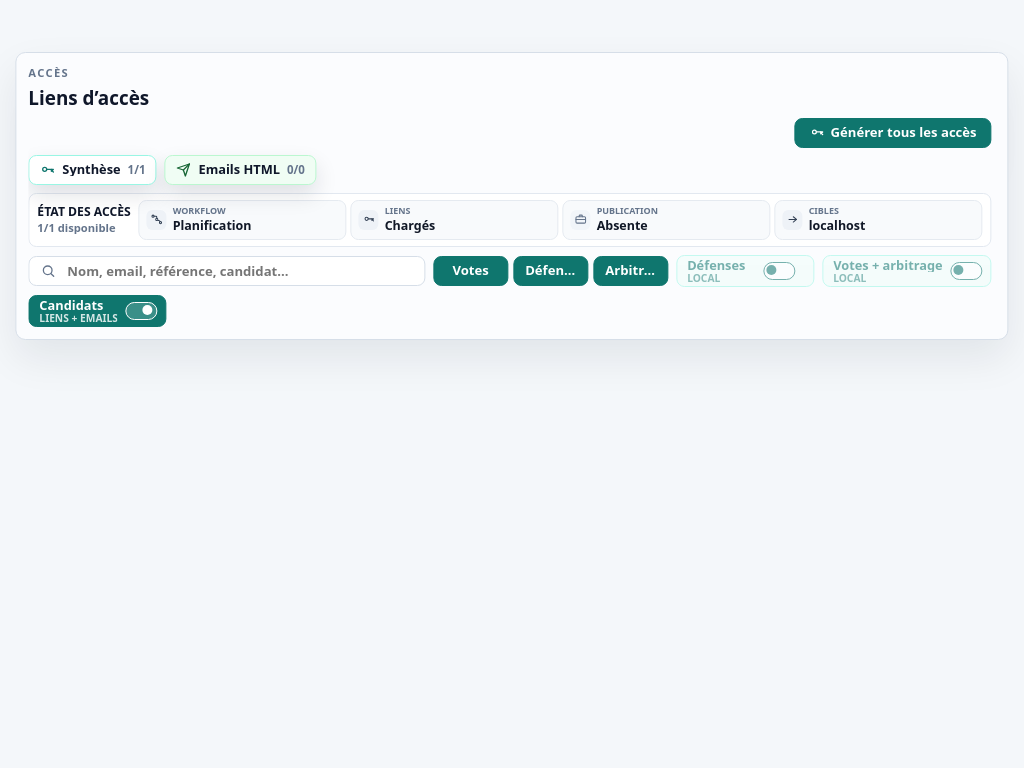
Test: GenToken generation command › prépare un email Outlook depuis un lien sans le compter comme envoi système
The image size is (1024, 768).
Click the button with aria-label "ouvrir la synthèse des accès". click: (92, 170)
box: [28,155,156,185]
(page scrolled)
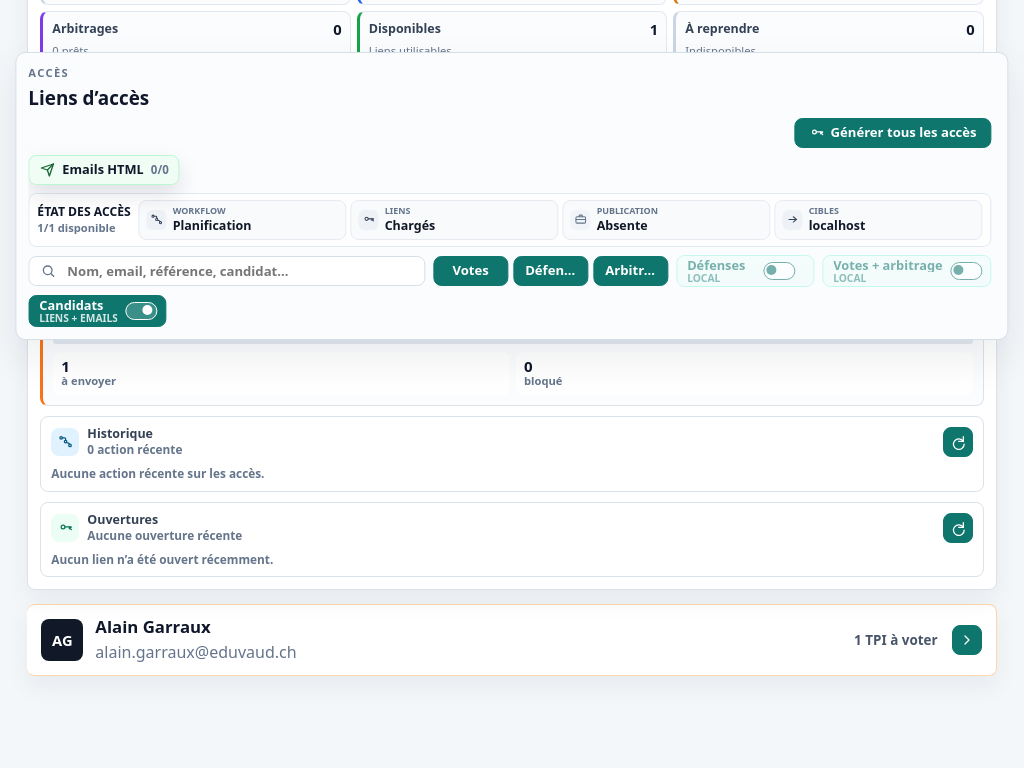
Expected: the text "0/1 transmis" is shown, [89,314,163,330]
Click the button named "ouvrir le bloc de Alain Garraux". click: (967, 640)
box: [952,625,982,655]
(page scrolled)
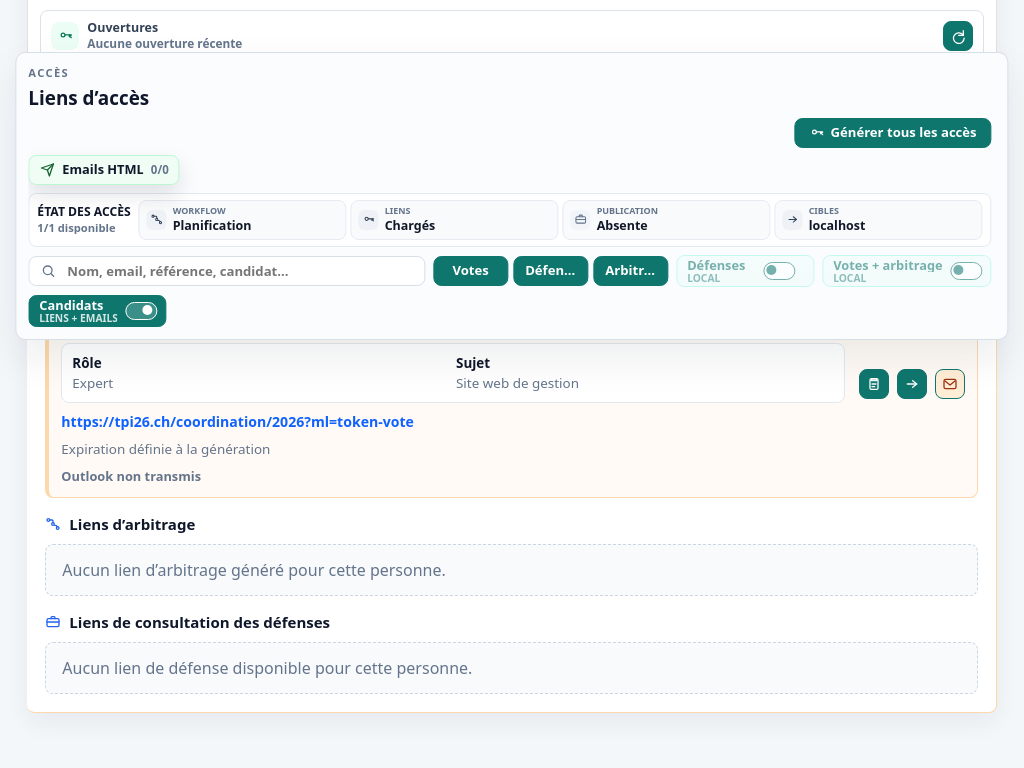
Click the button named "préparer outlook pour TPI-2026-39". click: (950, 384)
box: [935,369,965,399]
(page scrolled)
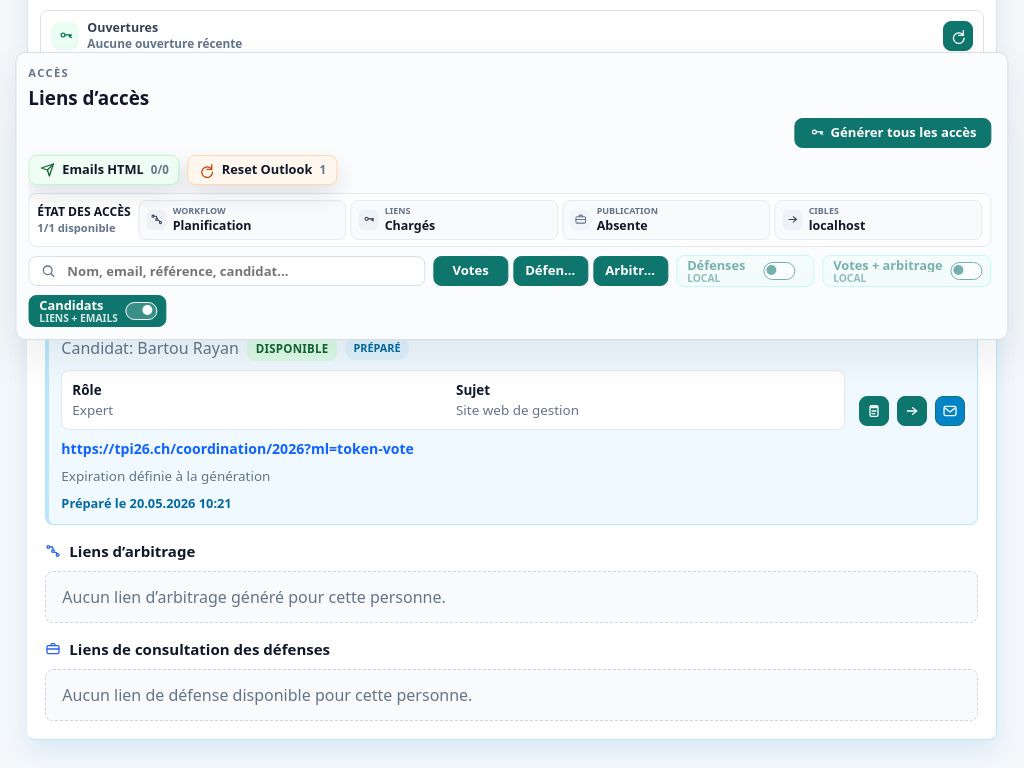
Result: the text "Outlook préparé" is shown at [99,182,219,205]
